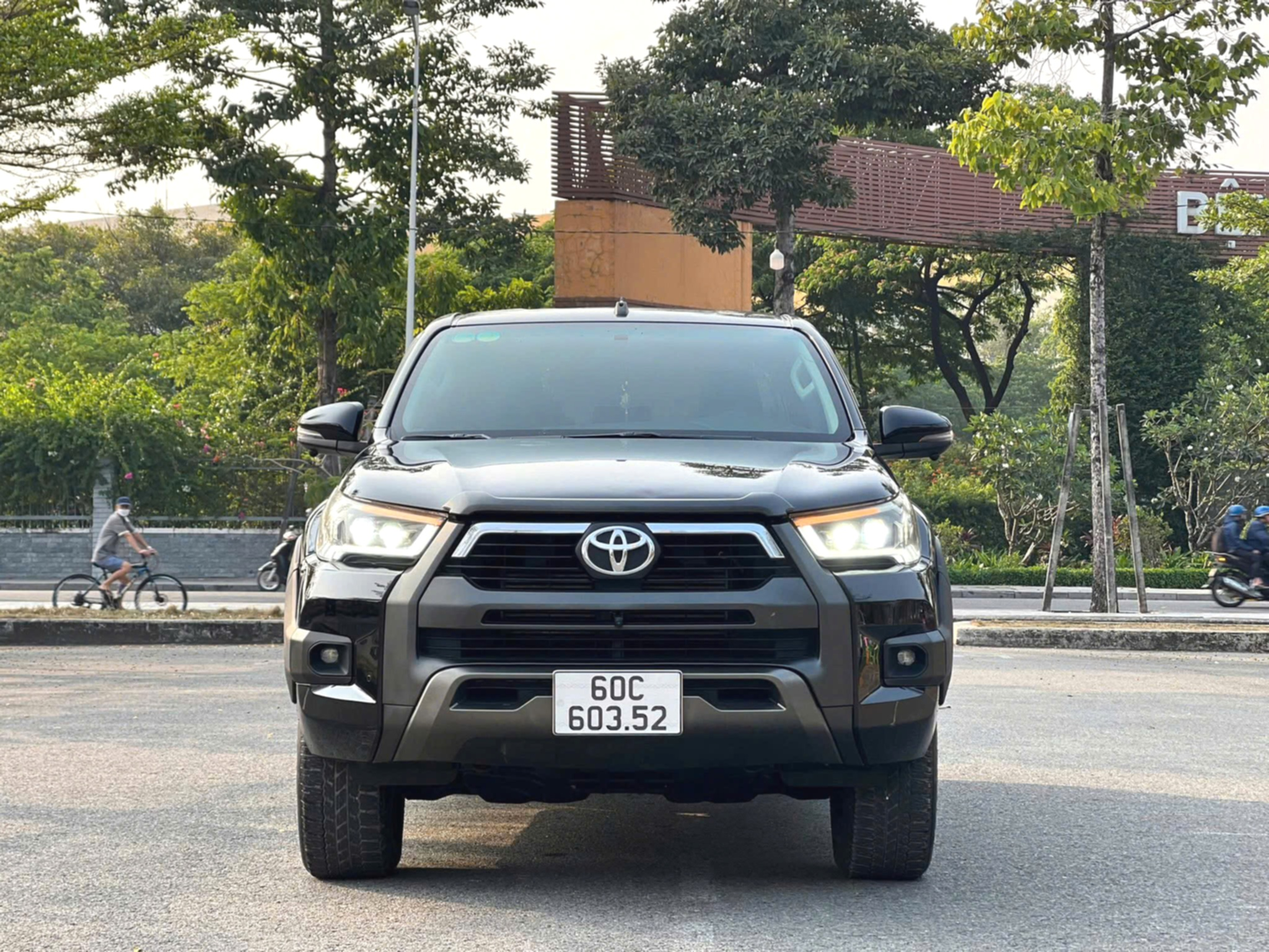Bien-so: (549, 664, 690, 741)
